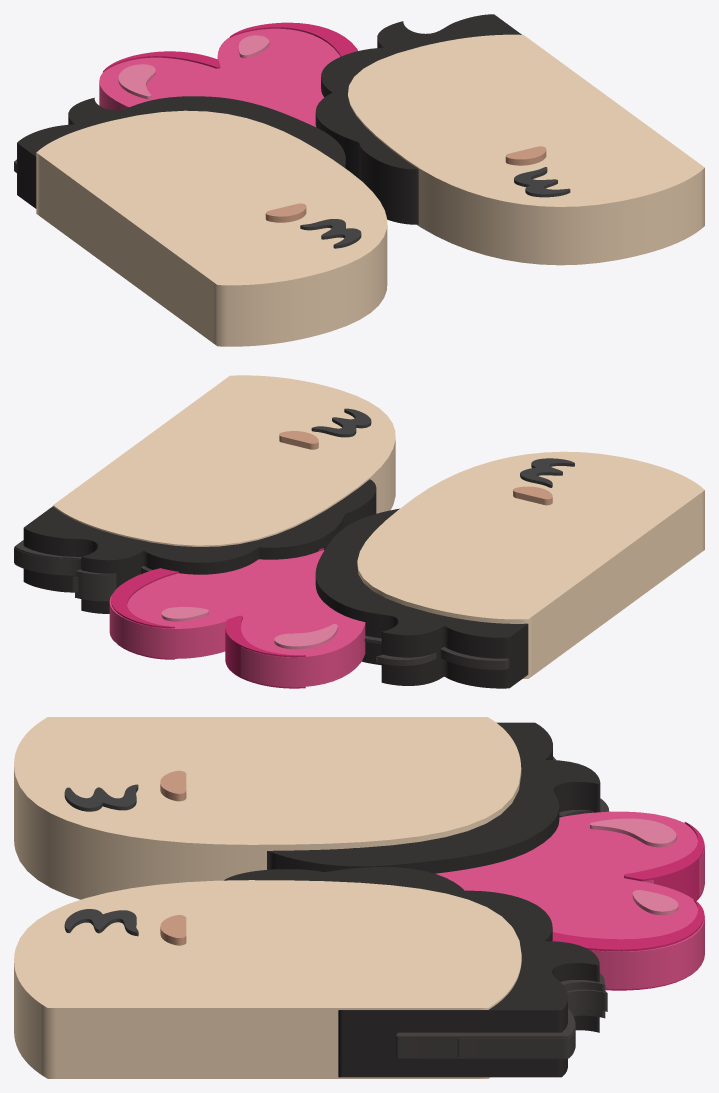
File: emoji_u1f48f_1f3fb.glb
The picture shows the model from 3 angles, top to bottom: view 1: azimuth 30°, elevation 25°; view 2: azimuth 150°, elevation 25°; view 3: azimuth 270°, elevation 25°; orthographic projection. The views are drawn at different scales.
Parts seen in each view (by area): view 1: emoji_u1f48f_1f3fb; view 2: emoji_u1f48f_1f3fb; view 3: emoji_u1f48f_1f3fb.
Part boxes in pixels (<box>): emoji_u1f48f_1f3fb: <box>14,14,704,346</box>; emoji_u1f48f_1f3fb: <box>14,375,704,688</box>; emoji_u1f48f_1f3fb: <box>14,717,704,1078</box>.
Size of the model in its own units: 0.0338 by 0.0048 by 0.0336.
